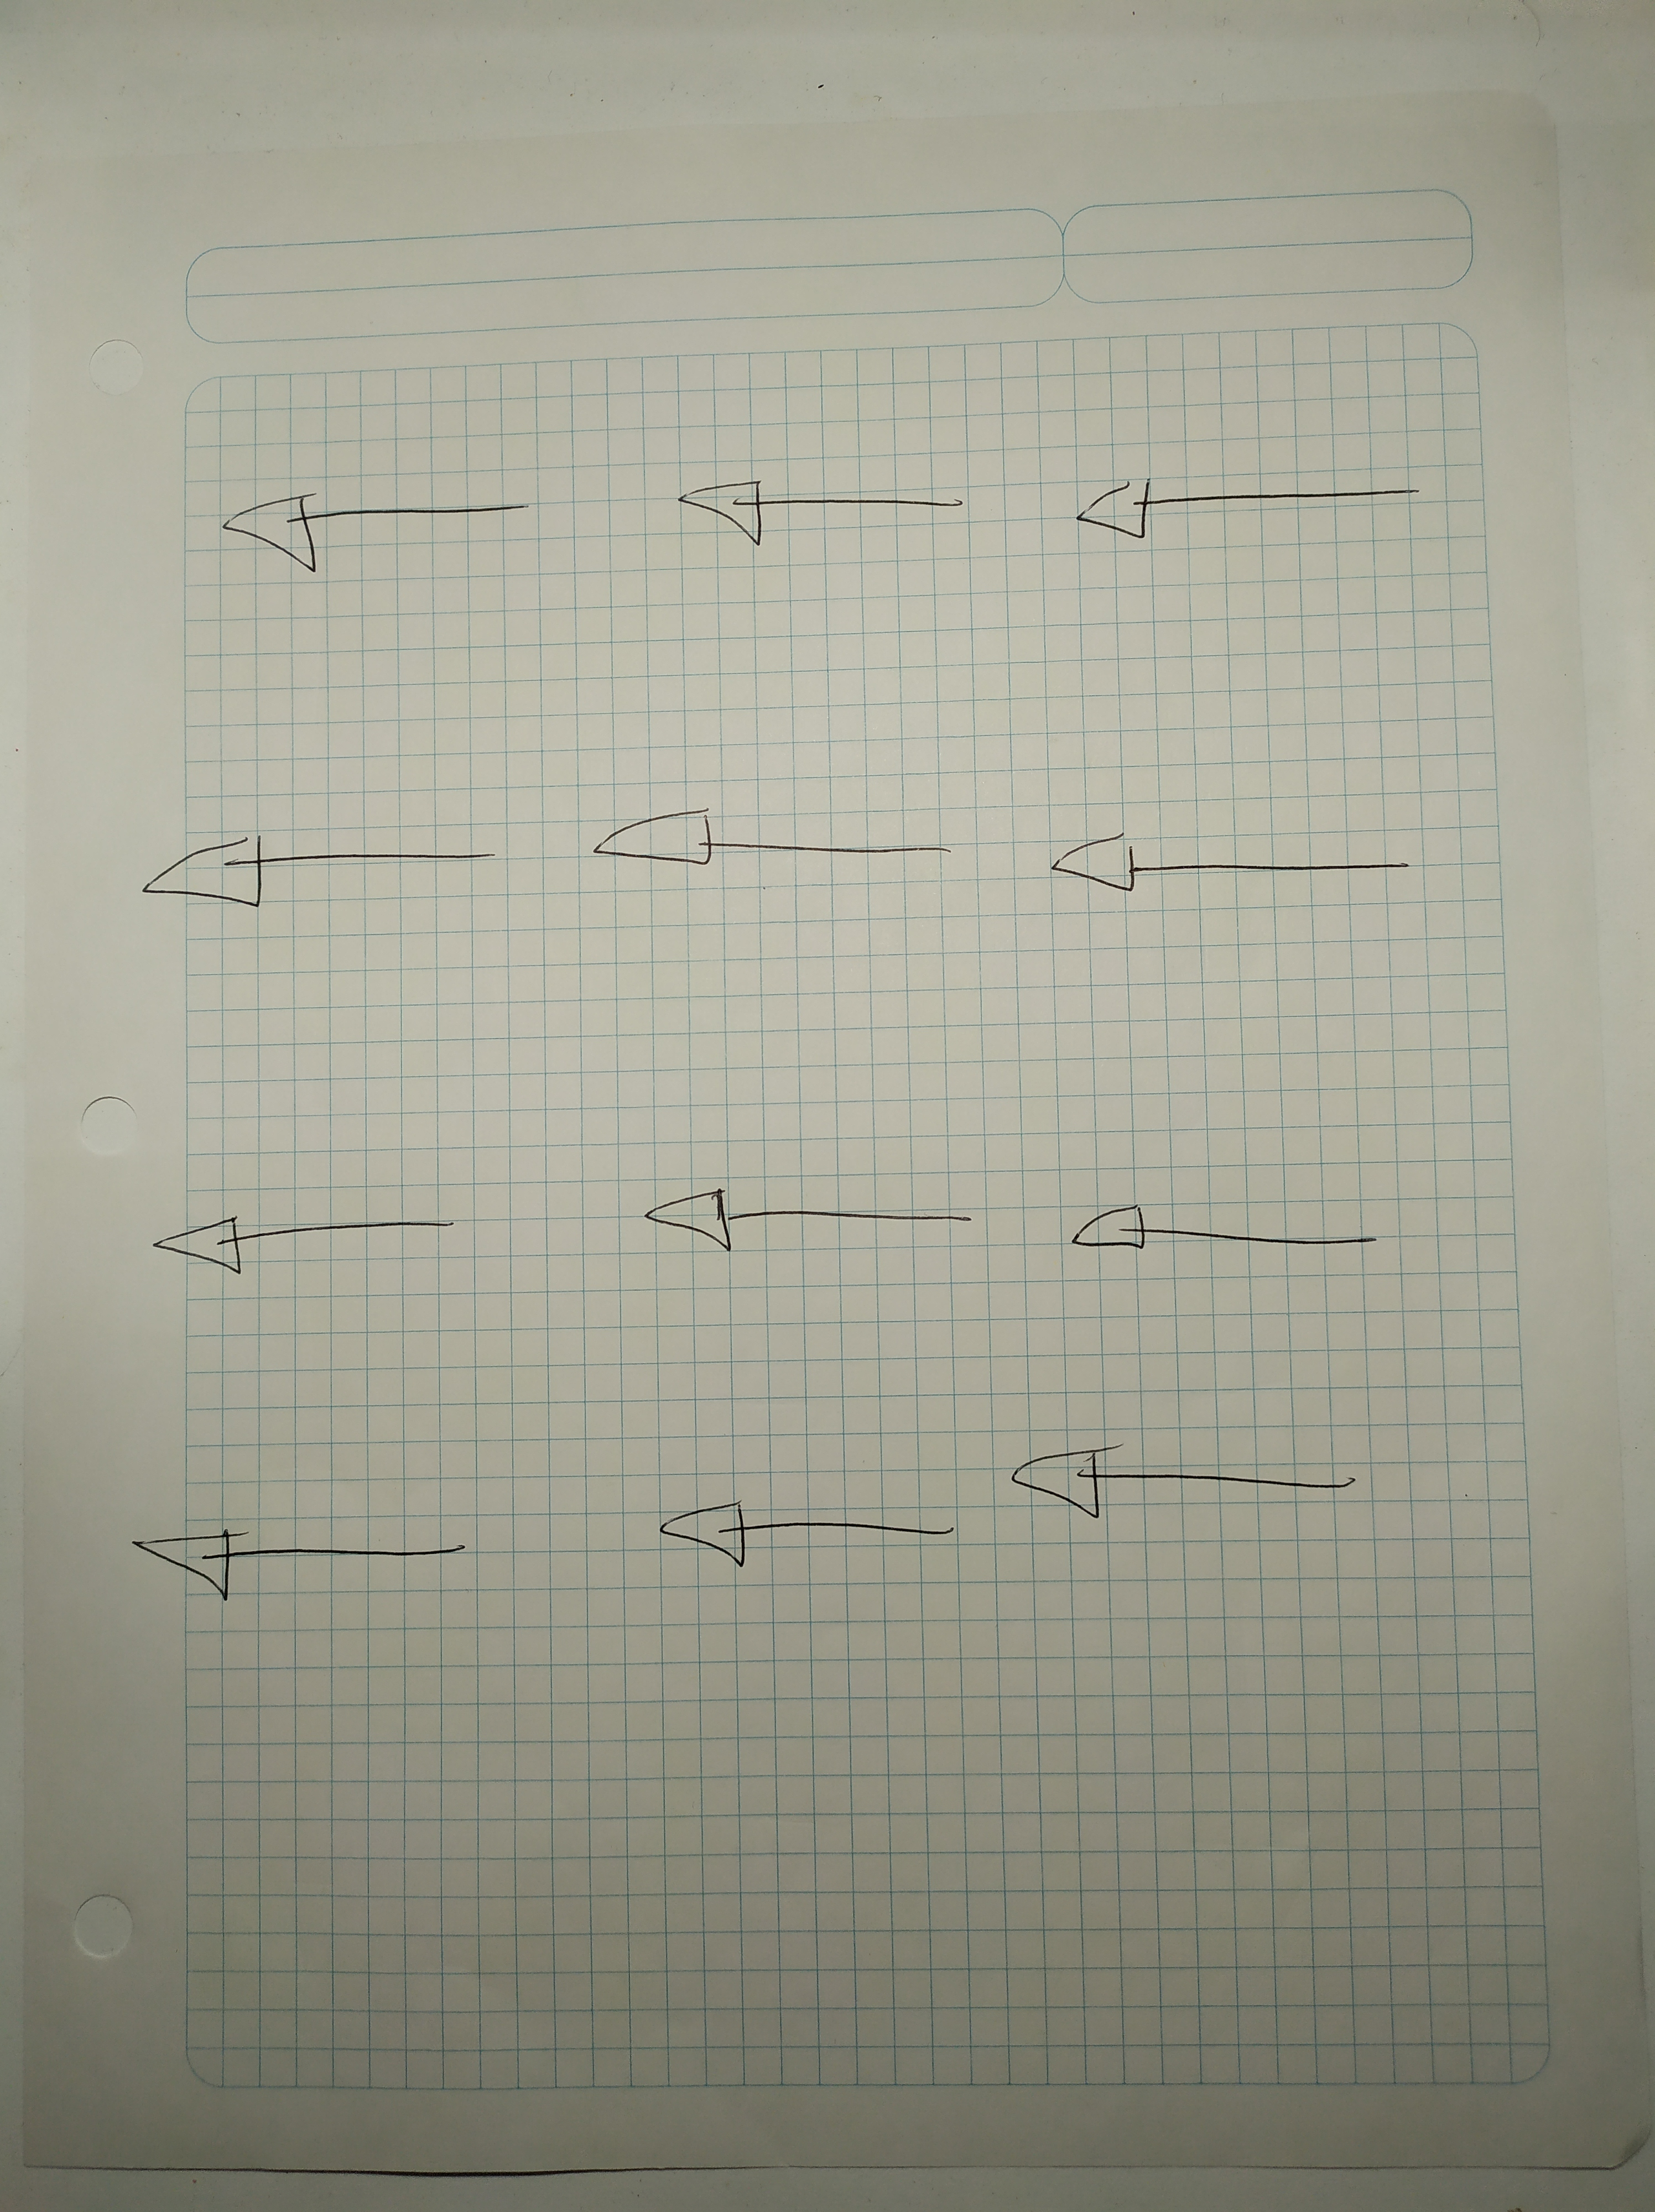arrow_line_left: (129, 810, 516, 940), (1027, 815, 1441, 923), (120, 1501, 508, 1616), (568, 798, 977, 905), (1057, 464, 1439, 575), (993, 1430, 1387, 1534), (652, 469, 1000, 587), (608, 1173, 994, 1277), (196, 481, 565, 589), (1048, 1192, 1408, 1284), (631, 1482, 974, 1578), (130, 1204, 475, 1282)
